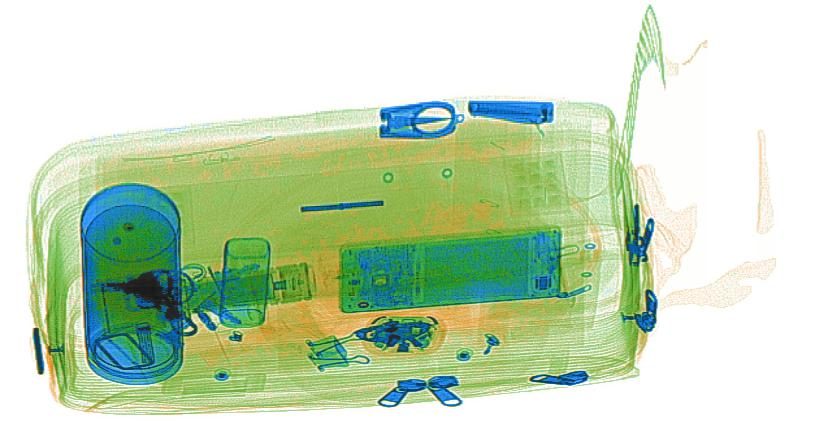battery: (181, 271, 279, 312)
scissors: (375, 99, 467, 142)
